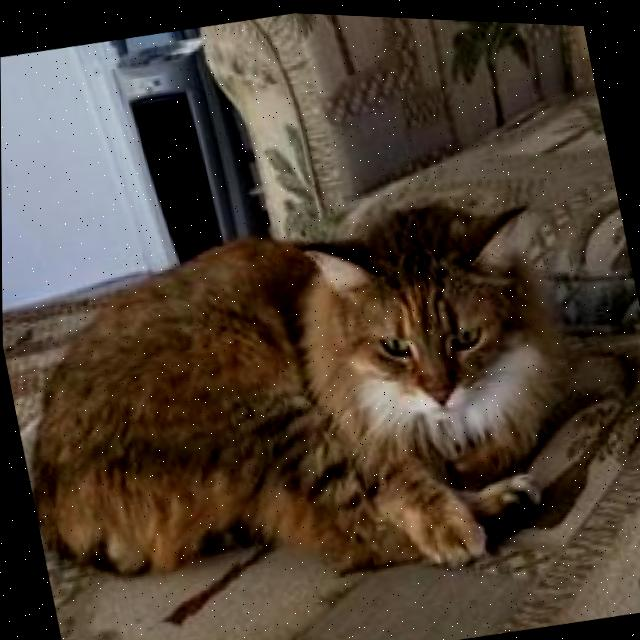American Bobtail: (1, 156, 609, 640)
